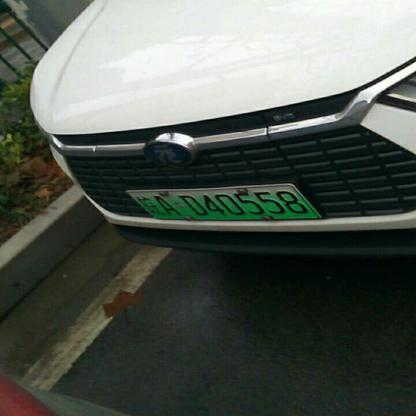lp: (124, 184, 322, 218)
